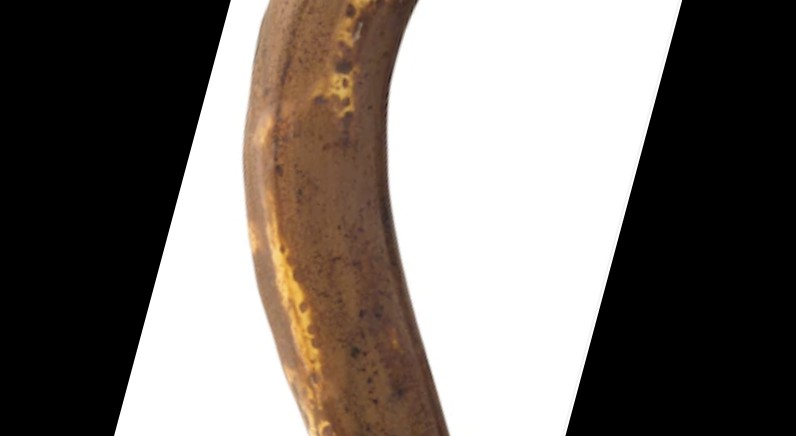rotten_banana: (242, 2, 456, 436)
